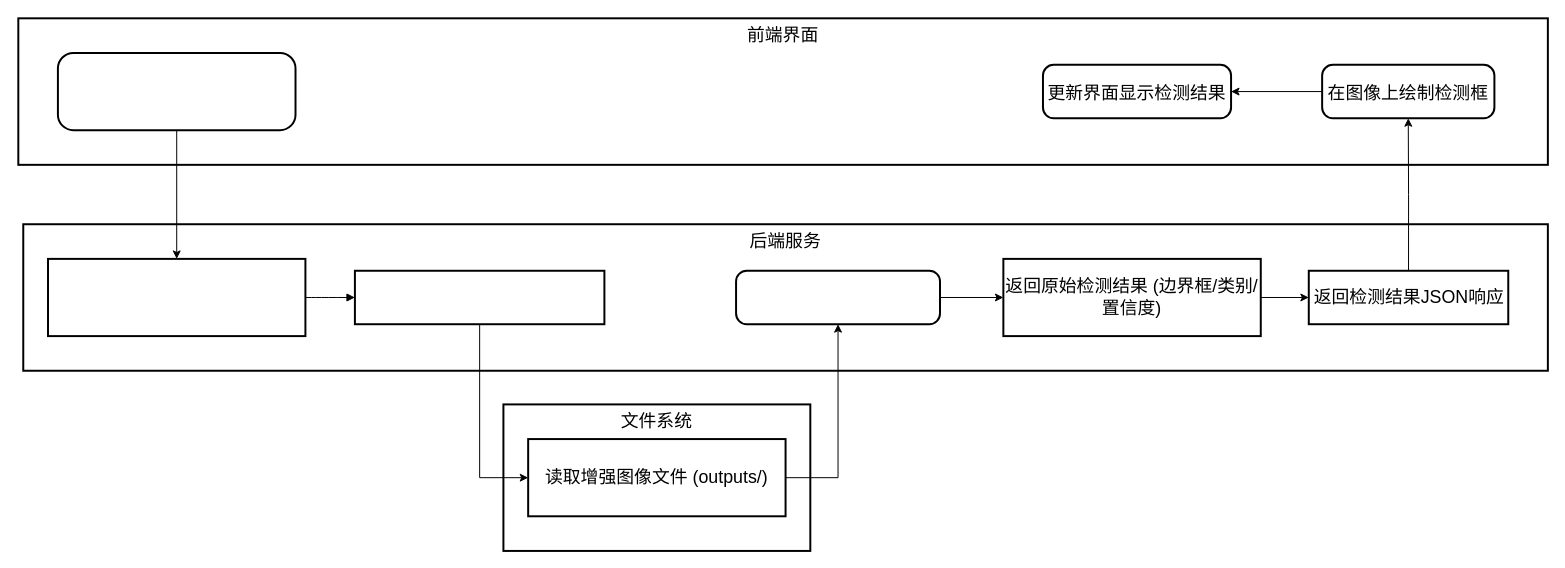
Some shapes in this 1565 by 568 pixel diagram are drawn without their labels. Here are the shapes that lost their labels. From the top down, the centre of each, then its label:
At (x=176, y=91): "发送目标检测请求 (含项目ID)".
At (x=176, y=297): "处理目标检测请求".
At (x=479, y=297): "查询项目获取增强图像路径".
At (x=837, y=297): "加载检测模型并执行检测".
